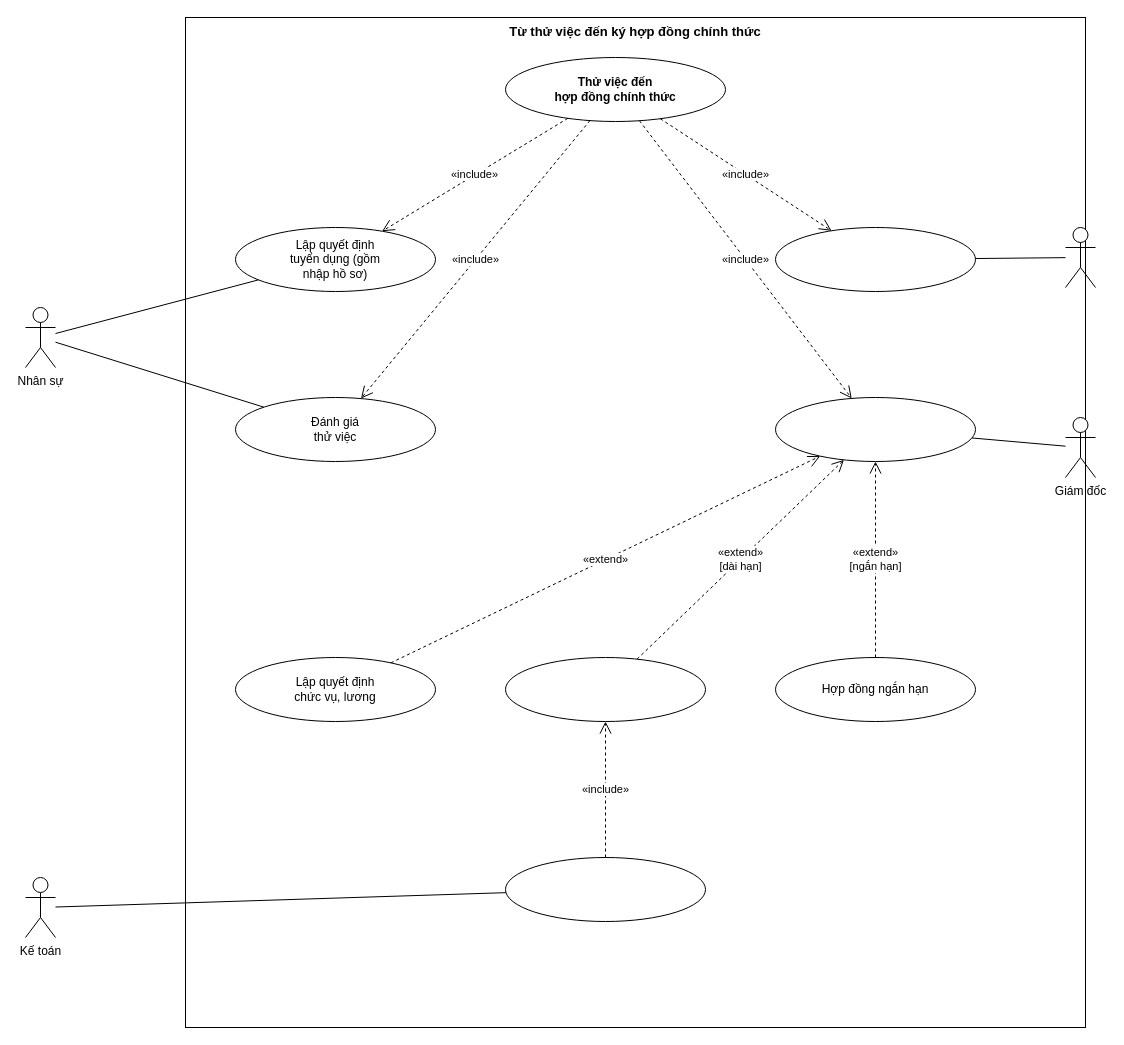
Image size: 1124x1045. Some labels were removed from this diagram. Here are the shapes that lost their labels. From the top down, the centre of each, then its label:
the point at 875,259: Làm việc thử việc (gồm chấm công)
the point at 1080,257: Nhân viên
the point at 875,429: Ký hợp đồng chính thức
the point at 605,689: Hợp đồng dài hạn
the point at 605,889: Đăng ký bảo hiểm
